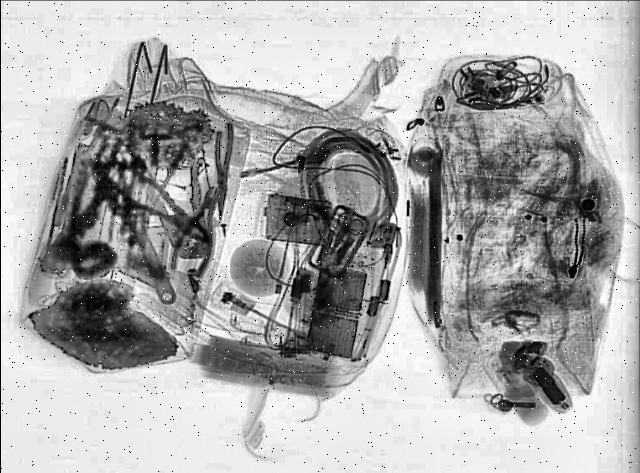Pliers: (132, 140, 226, 262), (166, 183, 230, 277), (208, 120, 238, 218)
